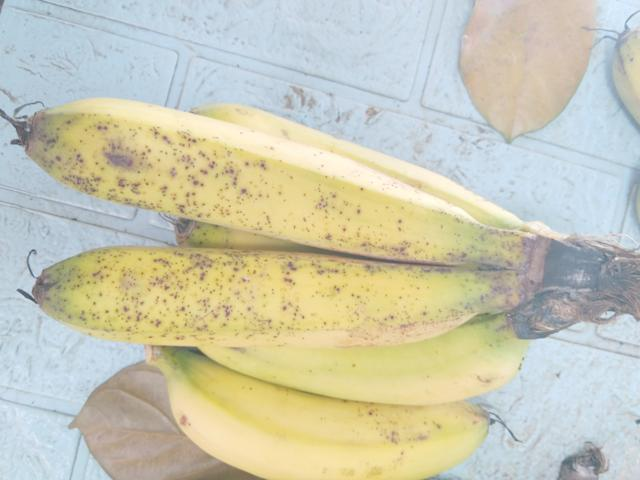ripe: (26, 89, 491, 268), (46, 236, 480, 363), (146, 380, 512, 479)
